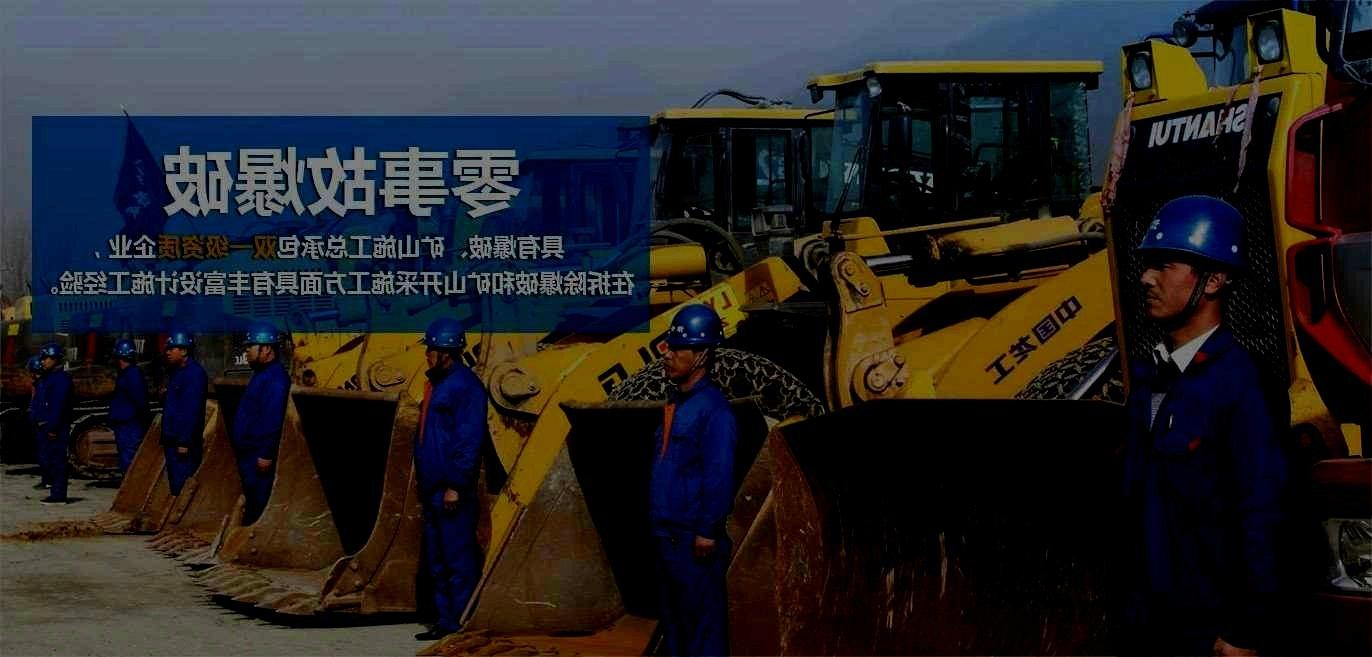helmet: (1130, 195, 1254, 320), (663, 304, 728, 379), (420, 318, 468, 370), (243, 321, 283, 369), (167, 329, 196, 365), (114, 339, 138, 369), (42, 343, 64, 371), (29, 355, 42, 380)
